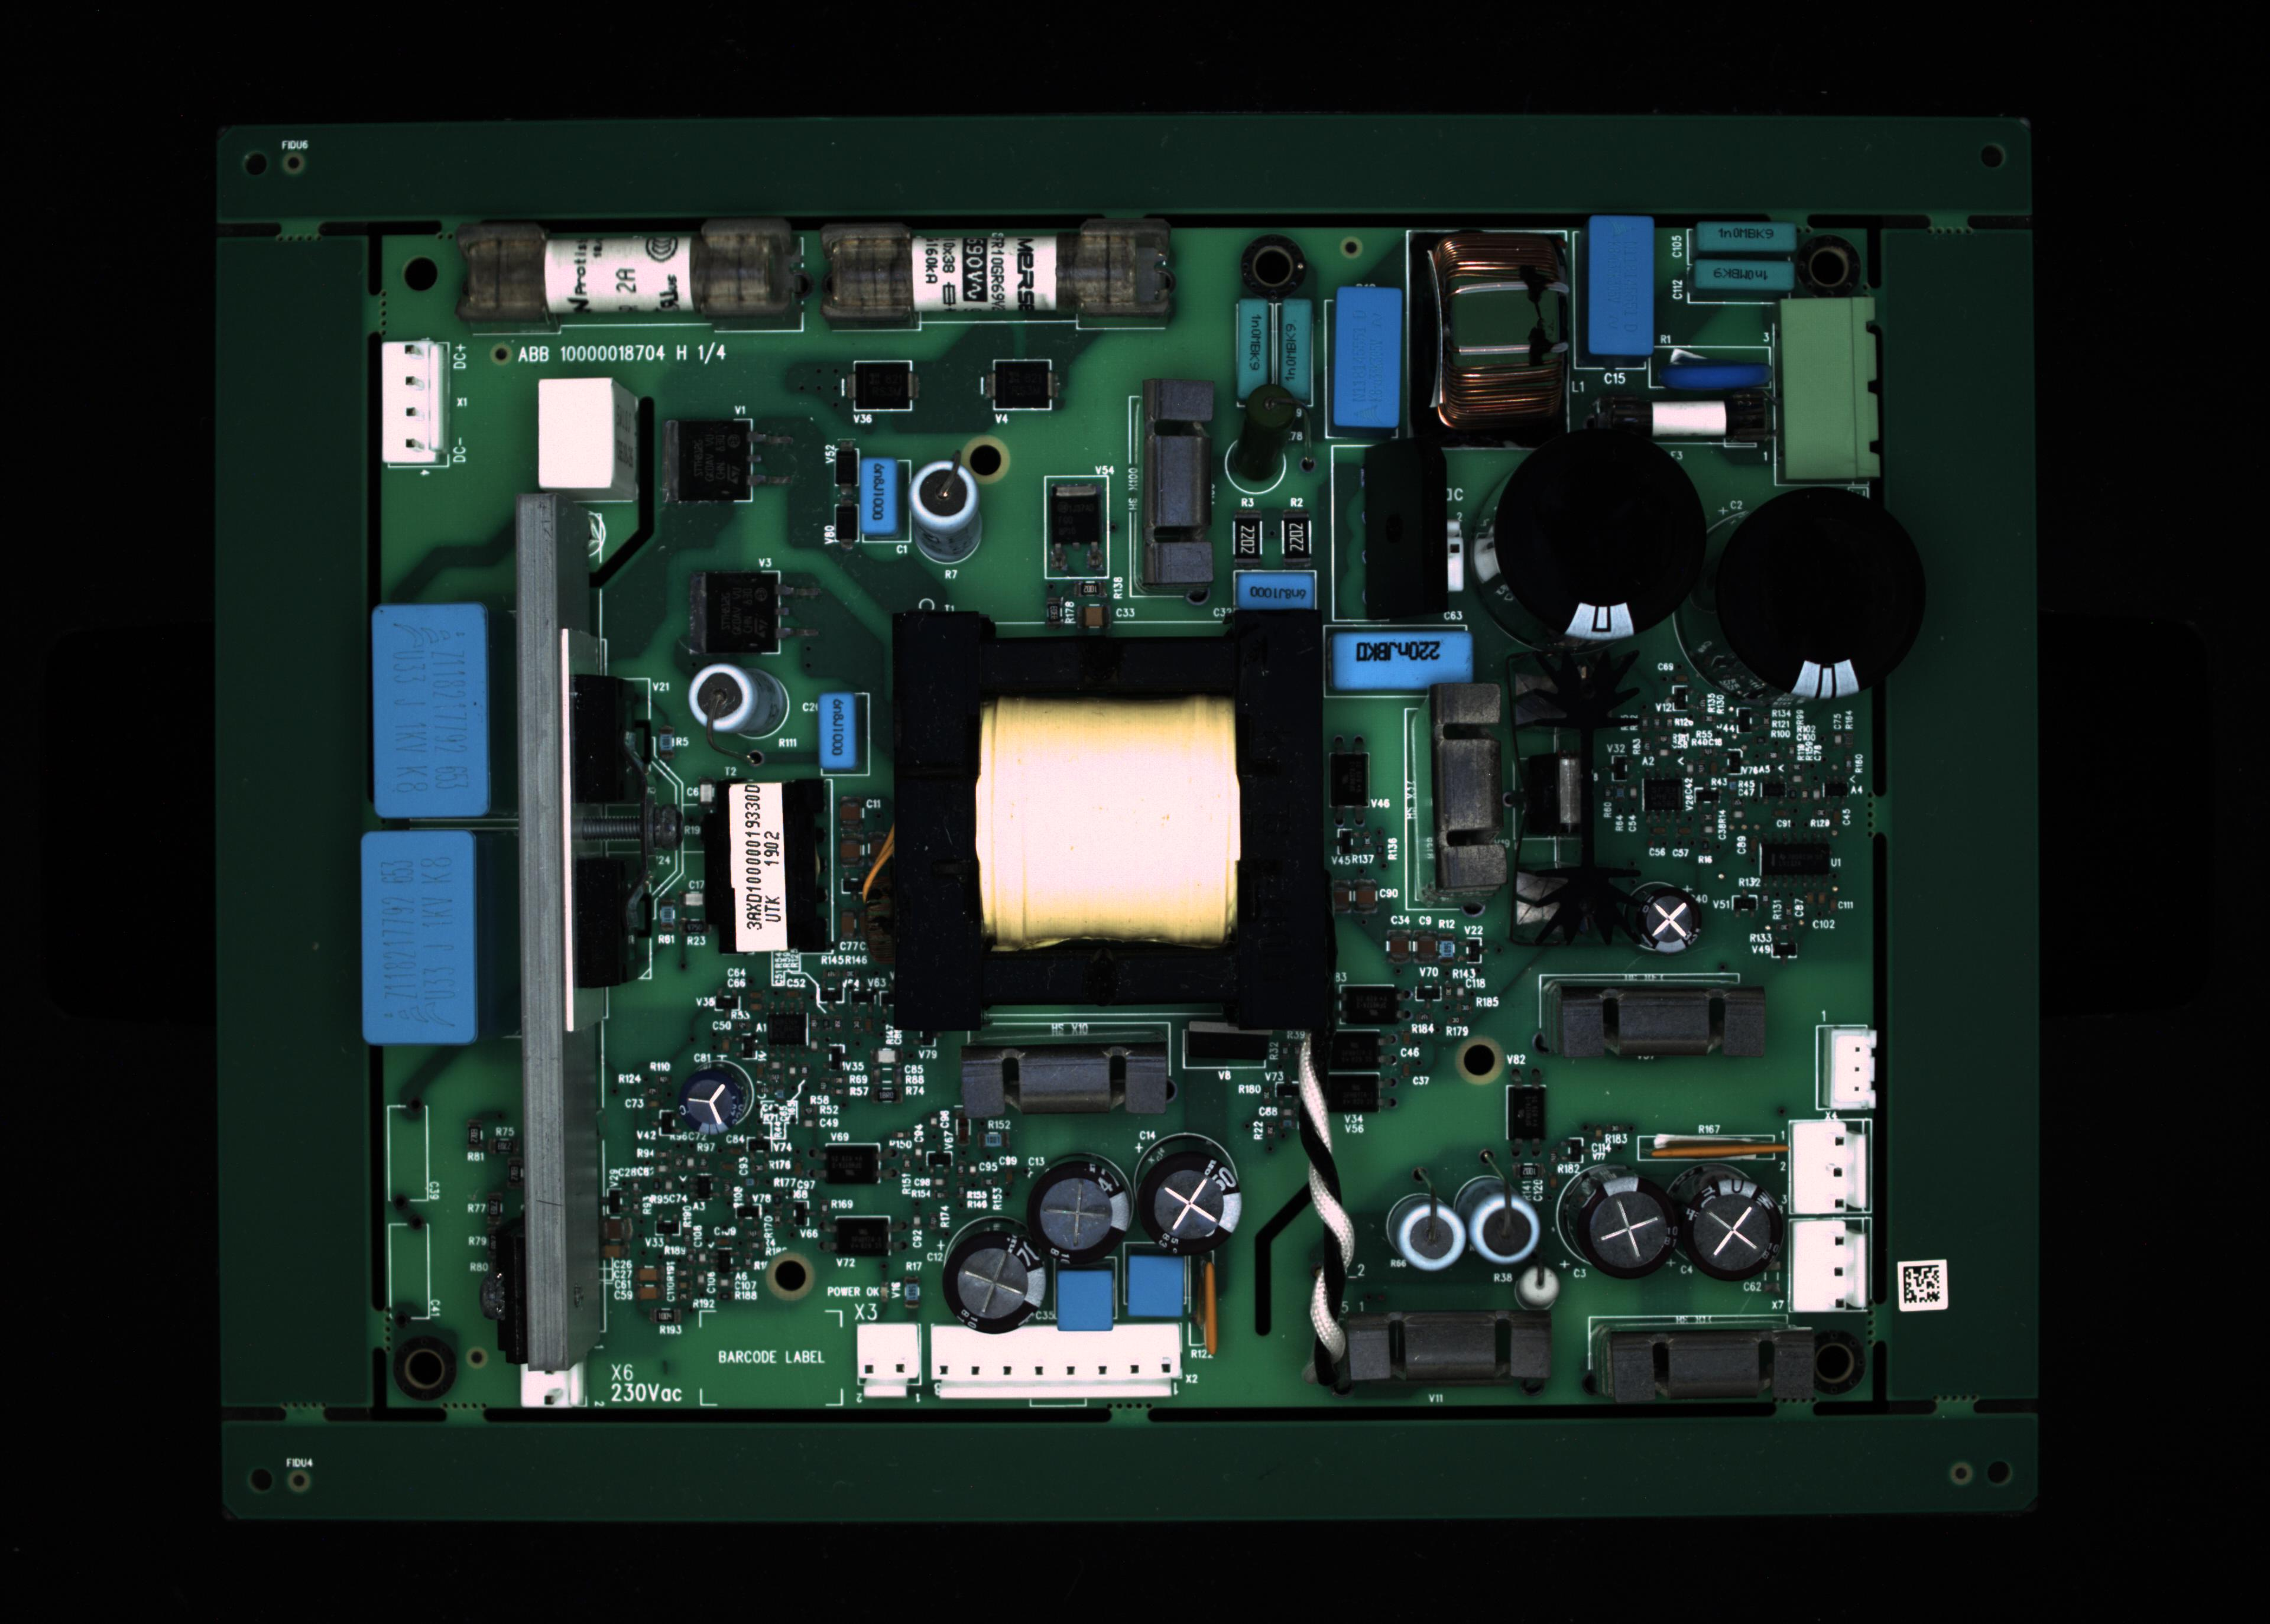10_p: (1648, 346, 1772, 394)
11_q: (1790, 301, 1878, 478)
12_r: (1591, 387, 1776, 455)
13_s: (380, 337, 447, 473)
14_t: (536, 376, 633, 494)
15_e: (856, 457, 897, 531)
16_k: (904, 464, 985, 531)
17_u: (1127, 385, 1206, 608)
18_v: (1236, 569, 1317, 608)
19_w: (1333, 629, 1473, 691)
1_a: (461, 221, 812, 323)
20_f: (1447, 517, 1465, 589)
21_g: (1489, 431, 1709, 642)
22_g: (1716, 490, 1929, 700)
23_h: (371, 603, 487, 821)
24_h: (360, 830, 478, 1039)
25_f: (519, 1362, 586, 1413)
26_f: (855, 1322, 921, 1396)
27_x: (927, 1323, 1185, 1399)
28_i: (1131, 1148, 1240, 1251)
29_i: (1027, 1153, 1134, 1274)
2_a: (819, 216, 1169, 320)
30_i: (941, 1225, 1051, 1339)
31_j: (1051, 1269, 1125, 1332)
32_j: (1124, 1250, 1197, 1323)
33_e: (816, 694, 856, 768)
34_k: (1398, 1200, 1466, 1271)
35_k: (1470, 1188, 1540, 1267)
36_i: (1581, 1174, 1679, 1280)
37_i: (1681, 1171, 1790, 1280)
38_l: (1345, 1318, 1560, 1385)
39_l: (1598, 1323, 1813, 1401)
3_b: (1238, 295, 1270, 402)
40_l: (1556, 984, 1767, 1062)
41_y: (1407, 678, 1505, 919)
42_z: (1827, 1026, 1880, 1107)
43_m: (1792, 1118, 1867, 1216)
44_m: (1792, 1220, 1867, 1309)
45_i: (679, 1065, 756, 1142)
46_n: (1338, 982, 1400, 1030)
47_n: (825, 1142, 881, 1185)
48_n: (832, 1214, 890, 1257)
49_aa: (763, 1011, 809, 1046)
4_b: (1285, 299, 1317, 404)
50_n: (1322, 1030, 1384, 1072)
51_n: (1321, 1072, 1380, 1113)
52_ab: (1329, 740, 1377, 831)
53_ac: (1656, 1130, 1790, 1165)
54_ad: (1194, 1253, 1222, 1364)
55_l: (957, 1044, 1171, 1118)
57_af: (1509, 647, 1635, 951)
58_i: (1630, 884, 1706, 958)
59_o: (993, 360, 1051, 411)
5_c: (1335, 286, 1400, 425)
60_o: (851, 359, 911, 410)
6_6: (1405, 232, 1572, 452)
7_c: (1590, 213, 1653, 353)
8_d: (1700, 221, 1795, 253)
9_d: (1697, 262, 1793, 288)
